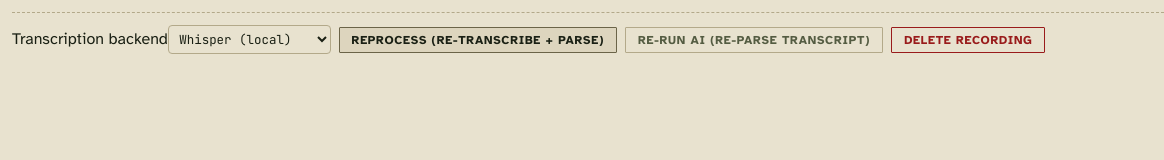
RecordingAdminControls (#566) › surfaces an error from the mutation
Expected: the element with test id "recording-admin-controls" is shown, left=12, top=12, right=1163, bottom=54
Click the button "Re-run AI (re-parse transcript)" at (754, 40), box left=625, top=26, right=883, bottom=52
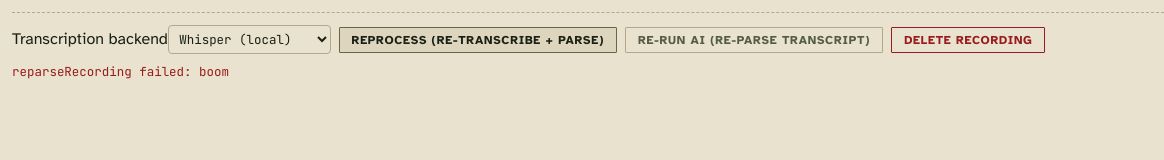
Expected: the message shows "boom", left=12, top=63, right=229, bottom=80
